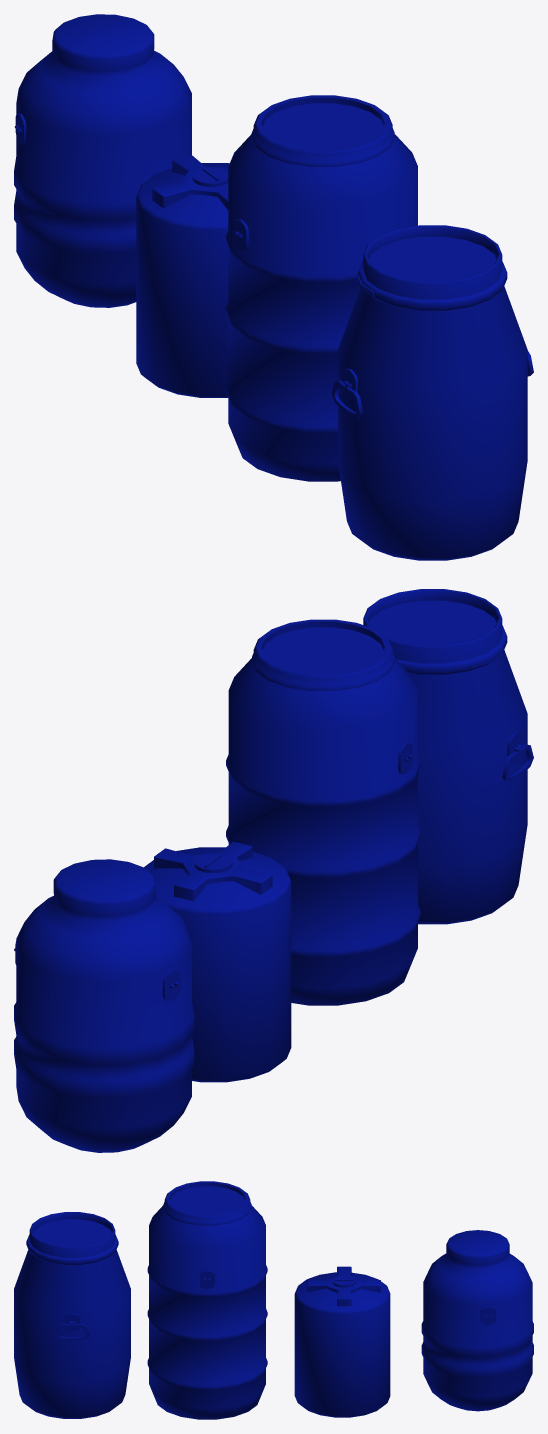
The model's file is Barrels_1.FBX.
3 renders of one model, top to bottom at view 1: azimuth 30°, elevation 25°; view 2: azimuth 150°, elevation 25°; view 3: azimuth 270°, elevation 25°, orthographic. The views are drawn at different scales.
Visible parts, largest first — view 1: Barrel_04, Barrel_03, Barrel_01, Barrel_02; view 2: Barrel_03, Barrel_01, Barrel_04, Barrel_02; view 3: Barrel_03, Barrel_04, Barrel_01, Barrel_02, Handle_04_2.
Part boxes in pixels (x1,y1,x2,y2): Barrel_04: [338, 225, 527, 560]; Barrel_03: [226, 95, 417, 481]; Barrel_01: [14, 14, 191, 307]; Barrel_02: [136, 155, 229, 397]; Barrel_03: [226, 619, 420, 1005]; Barrel_01: [14, 859, 194, 1152]; Barrel_04: [363, 589, 527, 924]; Barrel_02: [144, 841, 291, 1082]; Barrel_03: [147, 1181, 267, 1419]; Barrel_04: [14, 1212, 130, 1418]; Barrel_01: [421, 1230, 533, 1411]; Barrel_02: [294, 1266, 390, 1417]; Handle_04_2: [55, 1322, 89, 1340].
Size of the model in its own units: 55.06 by 98.25 by 231.
